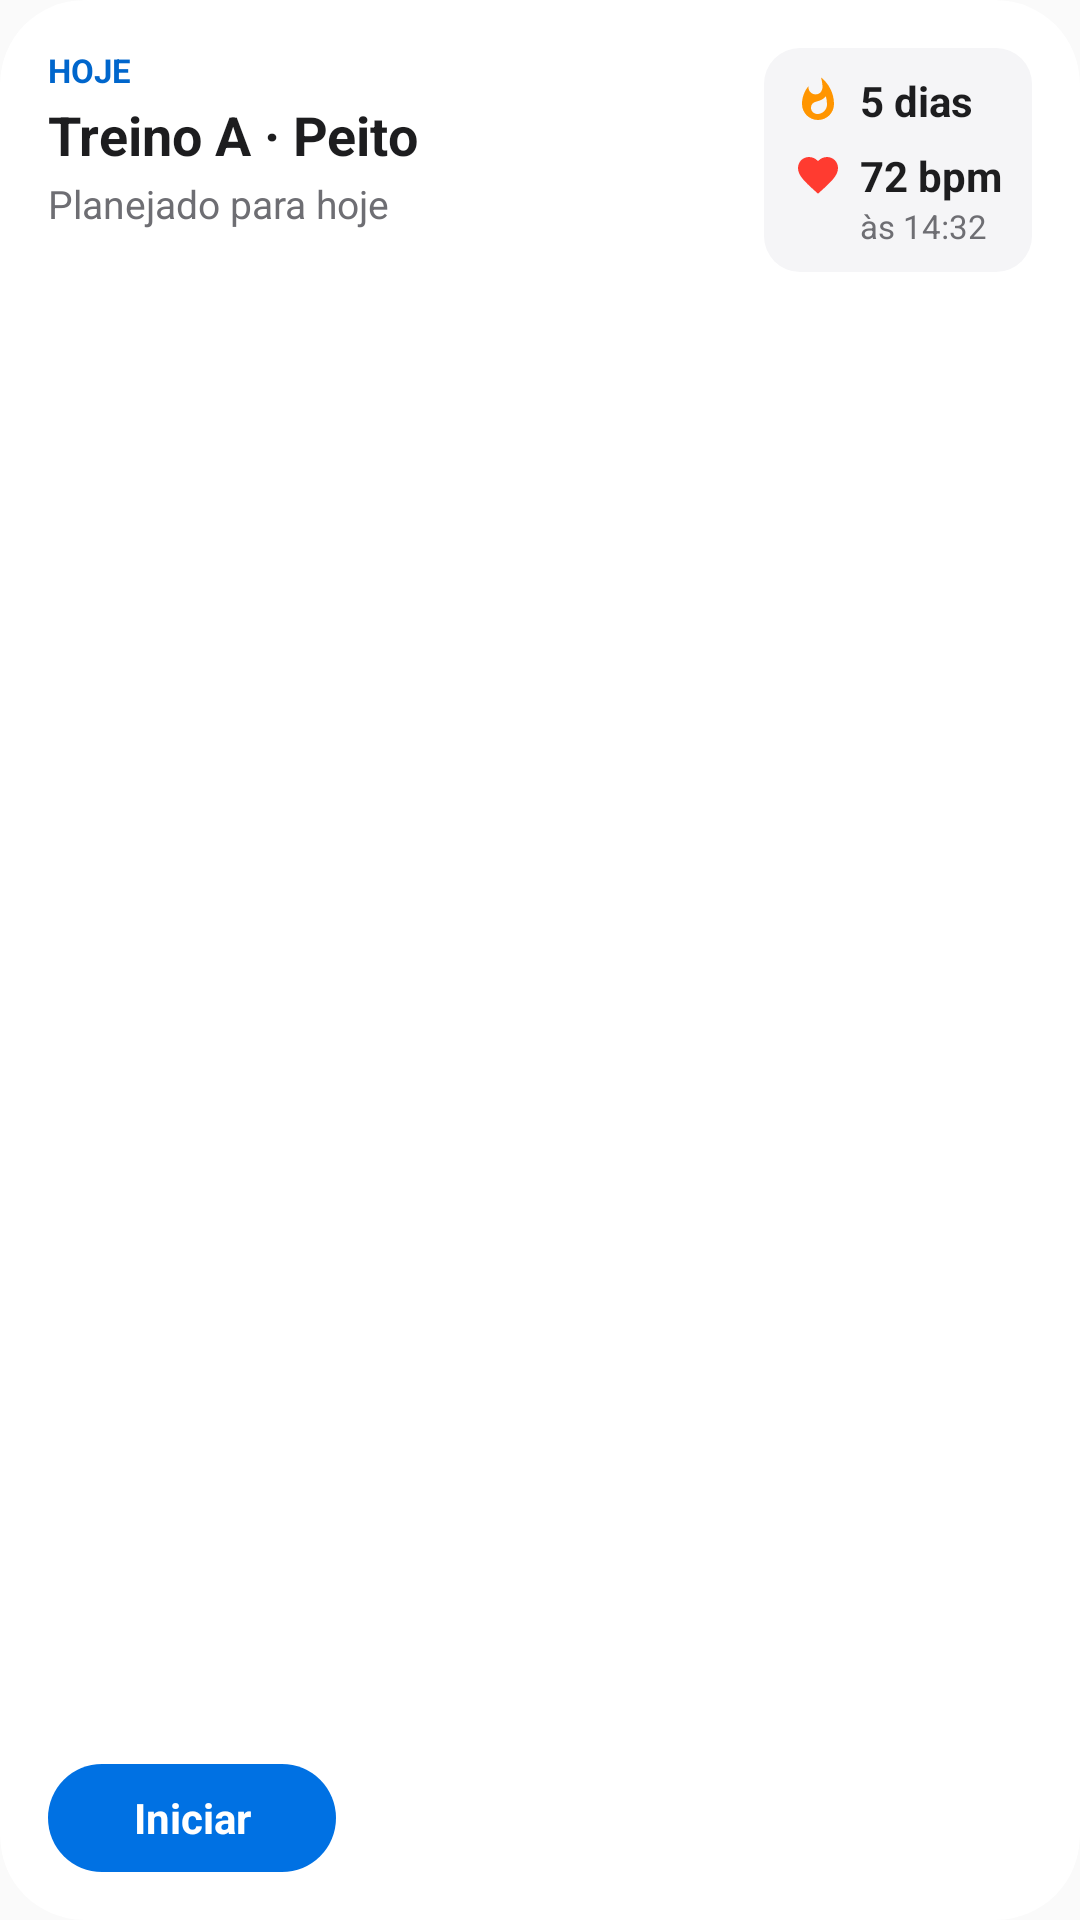

Icon bounding boxes for this 1080 × 1920 phone screenshot, format (x1, y1, x2, y2):
widget flame: (802, 77, 834, 120)
widget heart: (798, 157, 838, 194)
